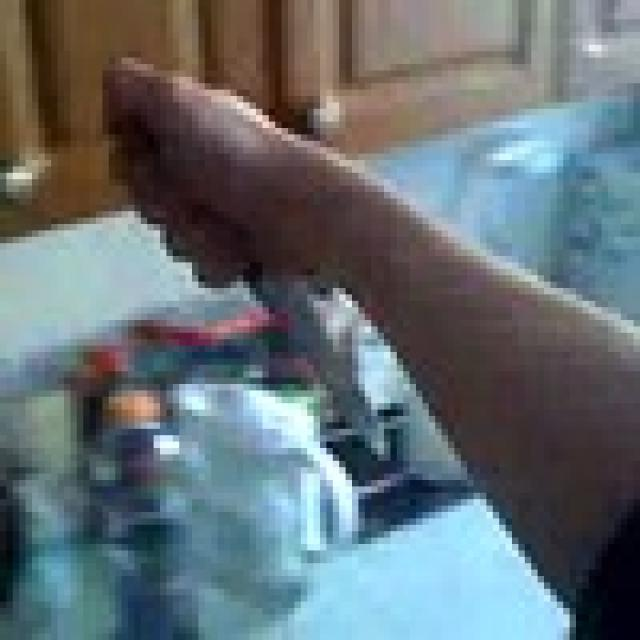Knife: (115, 90, 384, 467)
